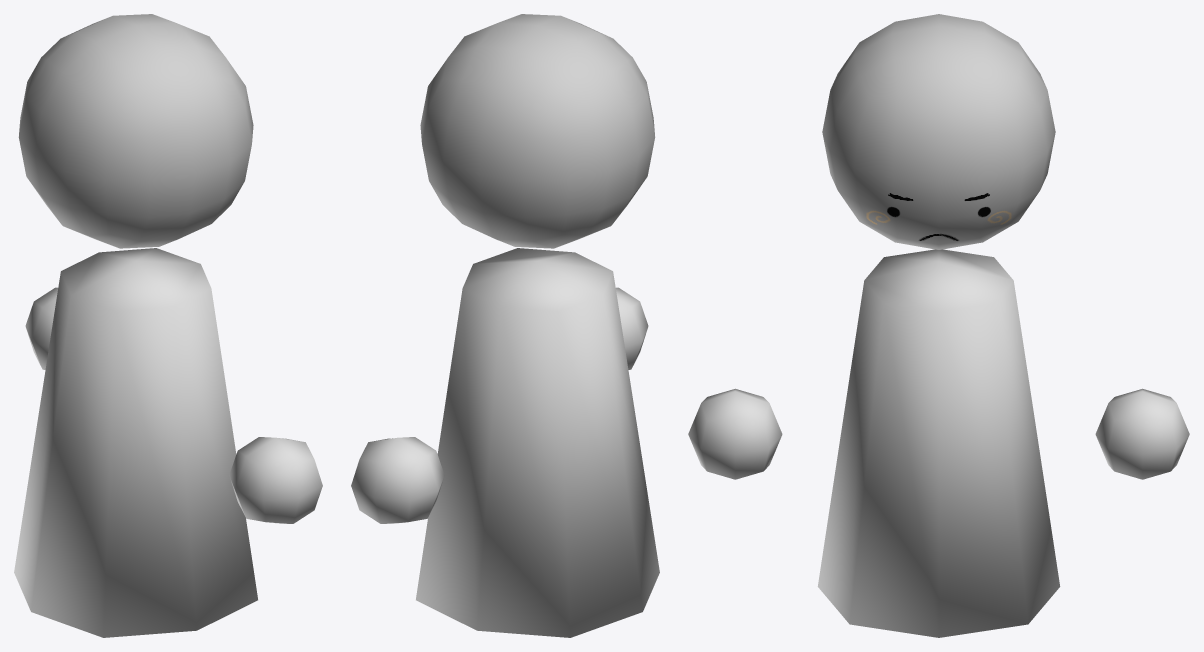
Rendered from devCharacter.fbx.
3 views of the same model, side by side, from view 1: azimuth 30°, elevation 25°; view 2: azimuth 150°, elevation 25°; view 3: azimuth 270°, elevation 25° (orthographic).
Parts seen in each view (by area): view 1: Body, Head, Right Hand, Left Hand; view 2: Body, Head, Left Hand, Right Hand; view 3: Body, Head, Left Hand, Right Hand.
Part boxes in pixels (left/top/right/bottom): Body: left=14, top=248, right=257, bottom=637; Head: left=18, top=14, right=253, bottom=248; Right Hand: left=229, top=437, right=322, bottom=523; Left Hand: left=25, top=287, right=58, bottom=369; Body: left=416, top=248, right=659, bottom=637; Head: left=420, top=14, right=655, bottom=248; Left Hand: left=351, top=437, right=444, bottom=523; Right Hand: left=615, top=287, right=648, bottom=369; Body: left=817, top=249, right=1060, bottom=637; Head: left=822, top=14, right=1055, bottom=249; Left Hand: left=1095, top=388, right=1189, bottom=479; Right Hand: left=688, top=388, right=782, bottom=479.
Size of the model in its own units: 361 by 174 by 445.
